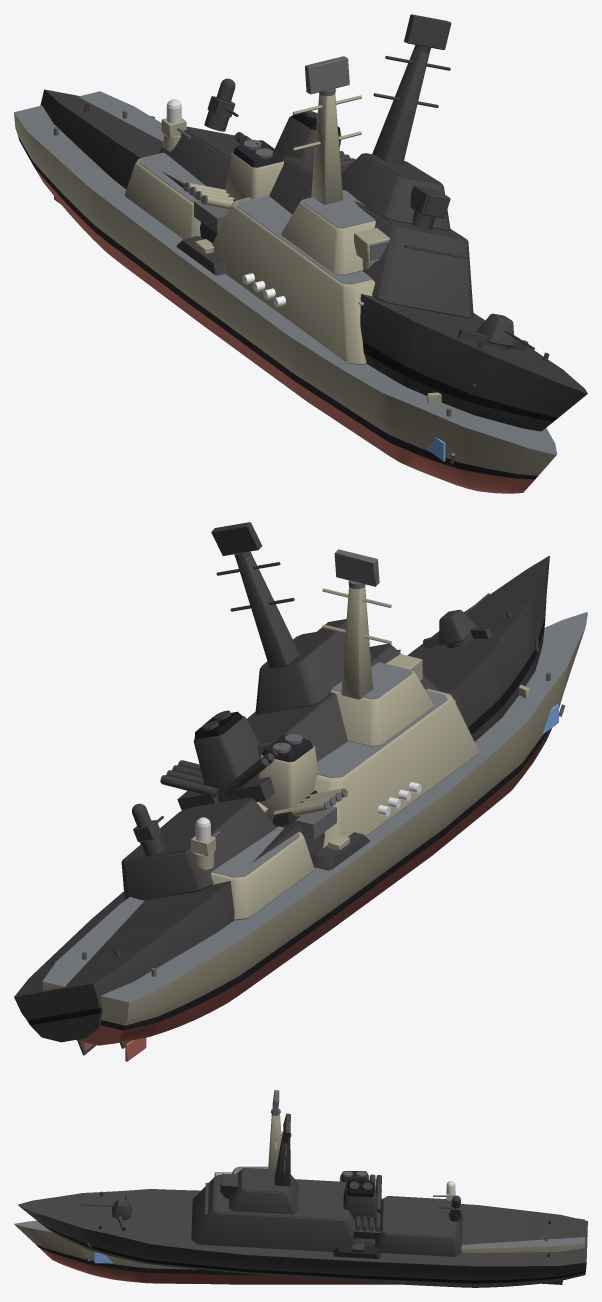
Rendered from missileBoat__ambassador_mk_iii.glb.
3 renders of one model, top to bottom at view 1: azimuth 30°, elevation 25°; view 2: azimuth 150°, elevation 25°; view 3: azimuth 270°, elevation 25°, orthographic. The views are drawn at different scales.
Parts seen in each view (by area): view 1: Hull_Mesh, Wreck, Radar_Mesh; view 2: Hull_Mesh, Wreck, Radar_Mesh; view 3: Wreck, Hull_Mesh.
Boxes of the visible parts, x1,y1,x2,y2 form: Hull_Mesh: [14, 91, 557, 493]; Wreck: [40, 14, 587, 431]; Radar_Mesh: [305, 56, 349, 96]; Hull_Mesh: [42, 586, 587, 1061]; Wreck: [14, 522, 549, 1055]; Radar_Mesh: [334, 549, 379, 589]; Wreck: [18, 1113, 587, 1287]; Hull_Mesh: [14, 1114, 584, 1284].
Size of what is drawn, in the model's own units: 15.03 by 24.26 by 65.58.
